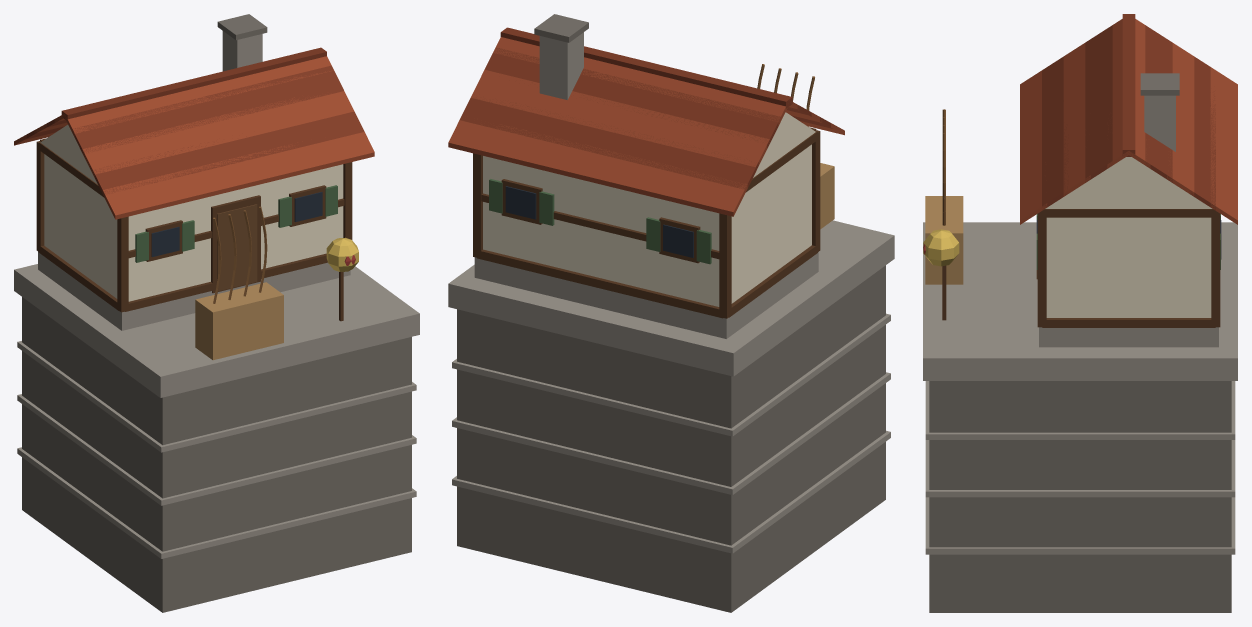
Rendered from bowyer.glb.
3 views of the same model, side by side, from view 1: azimuth 30°, elevation 25°; view 2: azimuth 150°, elevation 25°; view 3: azimuth 270°, elevation 25° (orthographic). The views are drawn at different scales.
Parts seen in each view (by area): view 1: bowyer; view 2: bowyer; view 3: bowyer.
Part boxes in pixels (x1,y1,x2,y2): bowyer: (14, 14, 419, 612); bowyer: (448, 14, 894, 612); bowyer: (923, 14, 1237, 612).
Bounding box in the file's own units: 5.1 × 8.72 × 4.99.
